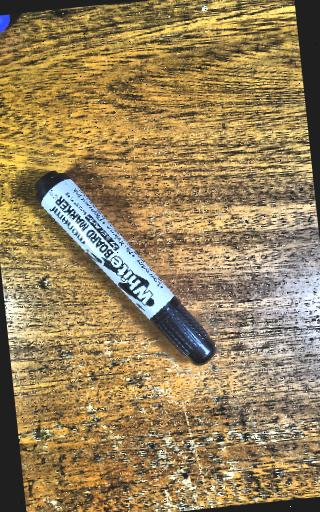marcador negro: (35, 171, 215, 366)
